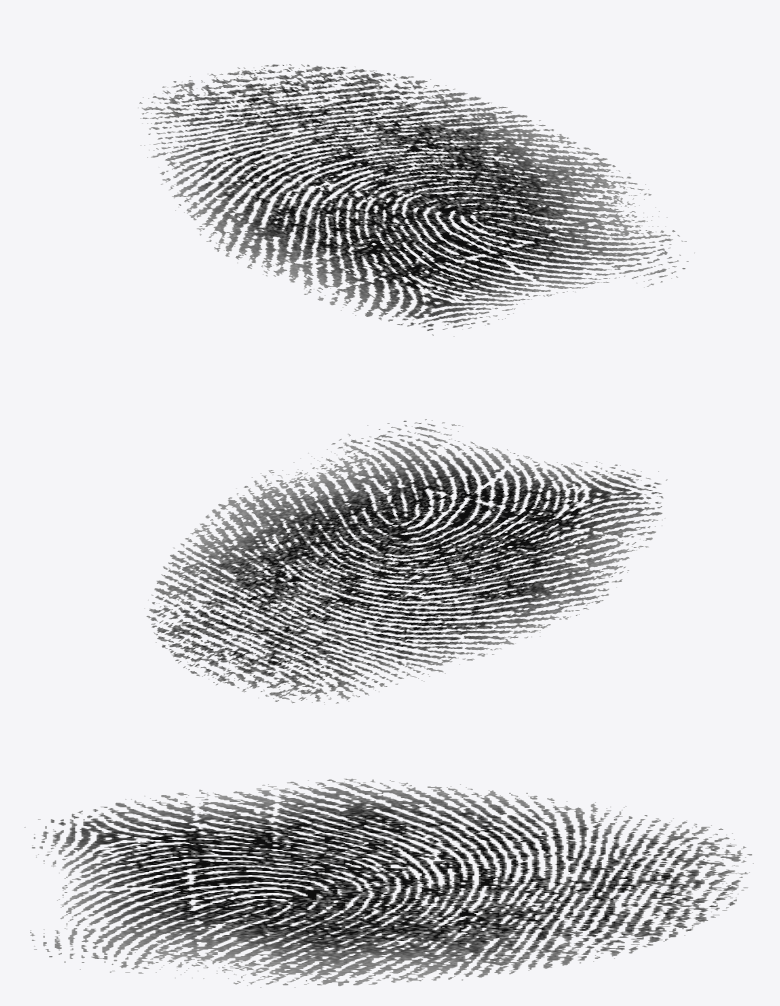
Rendered from fingerPrint2FBX.fbx.
3 renders of one model, top to bottom at view 1: azimuth 30°, elevation 25°; view 2: azimuth 150°, elevation 25°; view 3: azimuth 270°, elevation 25°, orthographic. The views are drawn at different scales.
Visible parts, largest first — view 1: Plane.013, Plane.014, Plane.012, Plane.010, Plane.007, Plane.009, Plane.008, Plane.005, Plane.011, Plane.004, Plane.006, Plane.015 (+3 smaller); view 2: Plane.014, Plane.013, Plane.012, Plane.010, Plane.007, Plane.009, Plane.008, Plane.005, Plane.011, Plane.004, Plane.006, Plane.015 (+3 smaller); view 3: Plane.013, Plane.014, Plane.012, Plane.010, Plane.007, Plane.009, Plane.008, Plane.005, Plane.011, Plane.004, Plane.006, Plane.015 (+3 smaller).
Part boxes in pixels (<box>): Plane.013: <box>356,198,560,281</box>; Plane.014: <box>288,148,491,230</box>; Plane.012: <box>219,99,423,180</box>; Plane.010: <box>424,120,615,197</box>; Plane.007: <box>175,181,355,259</box>; Plane.009: <box>493,169,667,247</box>; Plane.008: <box>237,231,423,304</box>; Plane.005: <box>162,64,354,130</box>; Plane.011: <box>358,79,531,147</box>; Plane.004: <box>425,248,607,325</box>; Plane.006: <box>147,131,286,207</box>; Plane.015: <box>330,281,475,336</box>; Plane.014: <box>290,527,491,609</box>; Plane.013: <box>356,476,560,559</box>; Plane.012: <box>222,577,423,660</box>; Plane.010: <box>173,497,355,576</box>; Plane.007: <box>424,560,609,636</box>; Plane.009: <box>236,452,422,526</box>; Plane.008: <box>493,510,654,587</box>; Plane.005: <box>175,627,354,703</box>; Plane.011: <box>144,550,286,625</box>; Plane.004: <box>425,442,620,509</box>; Plane.006: <box>356,610,531,676</box>; Plane.015: <box>561,469,667,532</box>; Plane.013: <box>164,845,314,918</box>; Plane.014: <box>314,845,465,918</box>; Plane.012: <box>465,845,615,918</box>; Plane.010: <box>314,918,465,986</box>; Plane.007: <box>314,778,465,845</box>; Plane.009: <box>164,918,314,987</box>; Plane.008: <box>164,780,314,845</box>; Plane.005: <box>615,845,753,918</box>; Plane.011: <box>465,918,615,977</box>; Plane.004: <box>31,845,164,918</box>; Plane.006: <box>465,787,615,845</box>; Plane.015: <box>24,795,164,845</box>.
Size of the model in its own units: 108 by 2.55e-05 by 156.
Materials: 1 (1 with a texture image).
